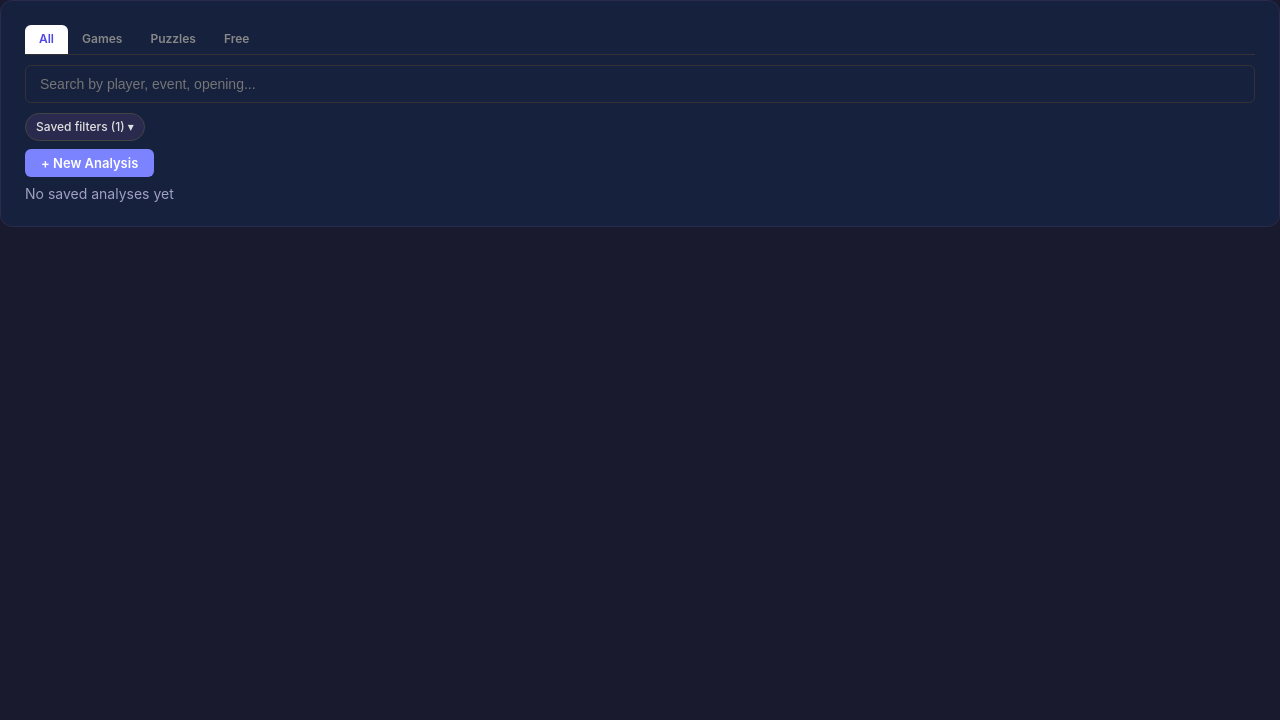
Scenario: WorkshopAnalysisList — KS-2933 (B3) › apply пресета через dropdown ставит filterValues и обновляет URL
Note: Открываем dropdown и применяем пресет.
Click the button with test id "saved-filters-toggle".
click(85, 127)  # box [25,113,145,141]
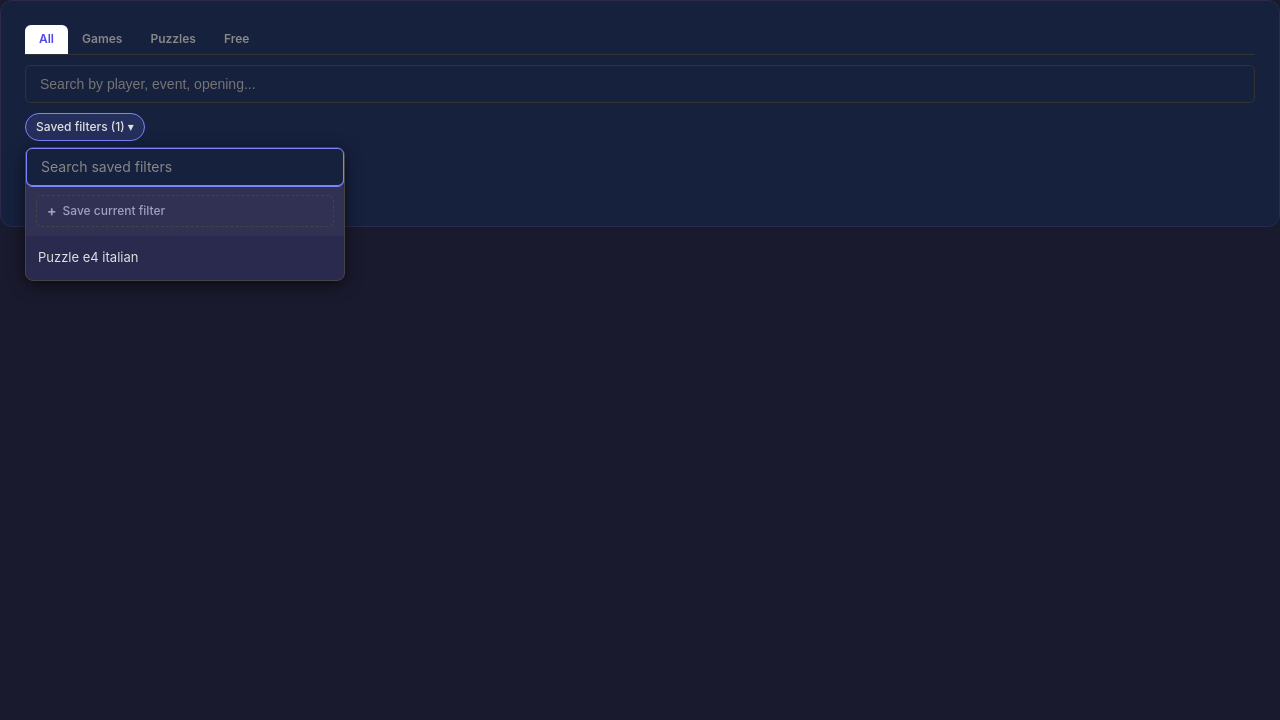
Click the menu item with test id "saved-filters-apply-preset-1".
click(88, 257)  # box [26,240,316,276]
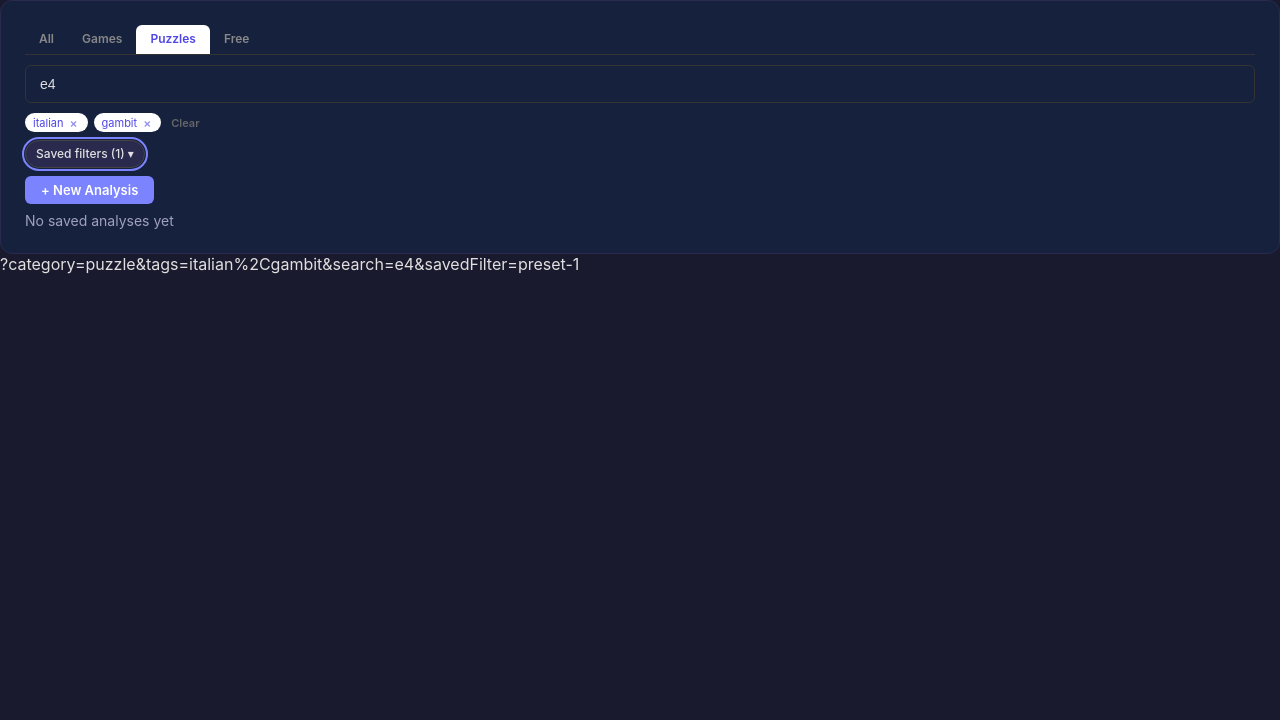
expect the text with test id "location-probe" shows "category=puzzle": met, box [0,254,579,274]
expect the text with test id "location-probe" shows "tags=italian%2Cgambit": met, box [0,254,579,274]
expect the text with test id "location-probe" shows "search=e4": met, box [0,254,579,274]
